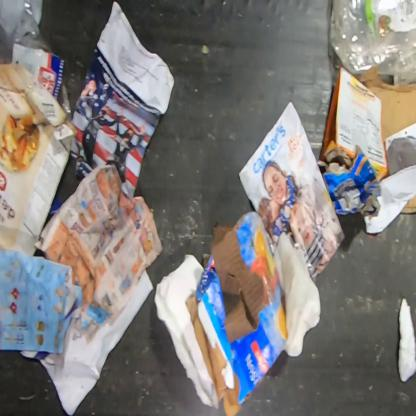cardboard: (185, 211, 289, 415), (0, 65, 75, 261), (353, 65, 415, 214), (320, 64, 388, 181), (316, 145, 382, 217)
rigid_plastic: (329, 0, 415, 87), (0, 0, 55, 65)
